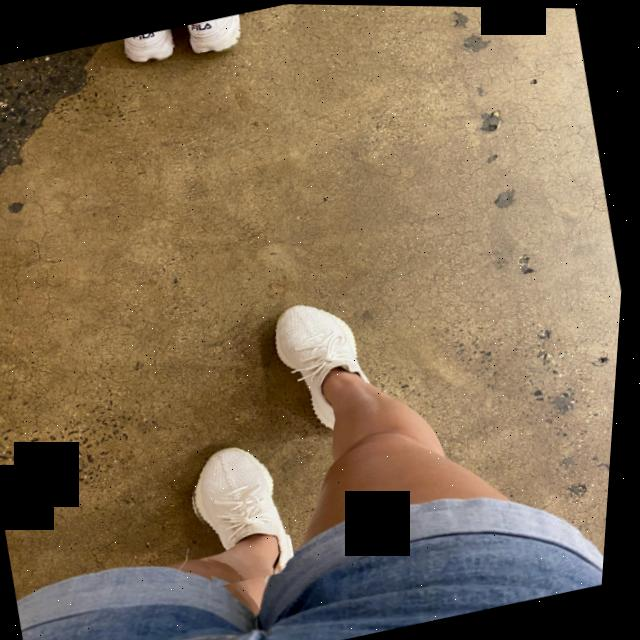shoe: (265, 286, 399, 444), (183, 435, 311, 589), (182, 12, 250, 60), (118, 26, 184, 68)
